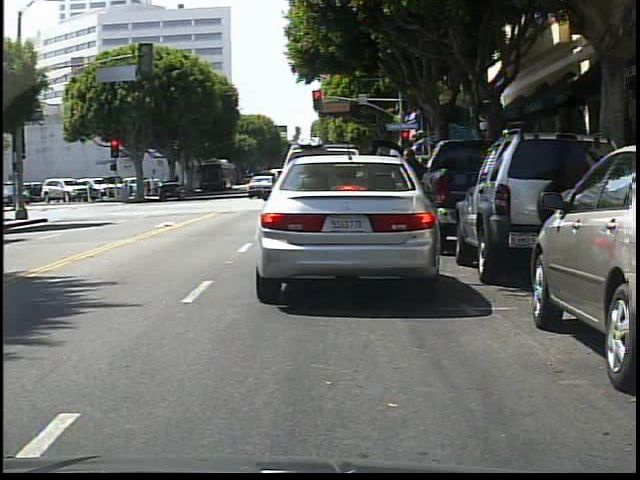person: (398, 144, 429, 241)
